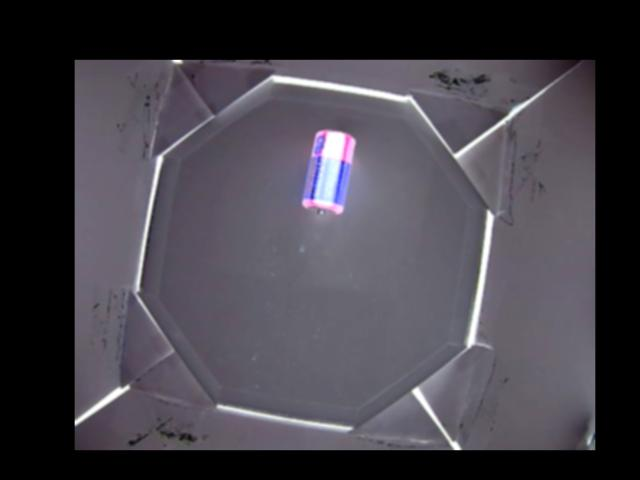Battery: (301, 130, 356, 216)
